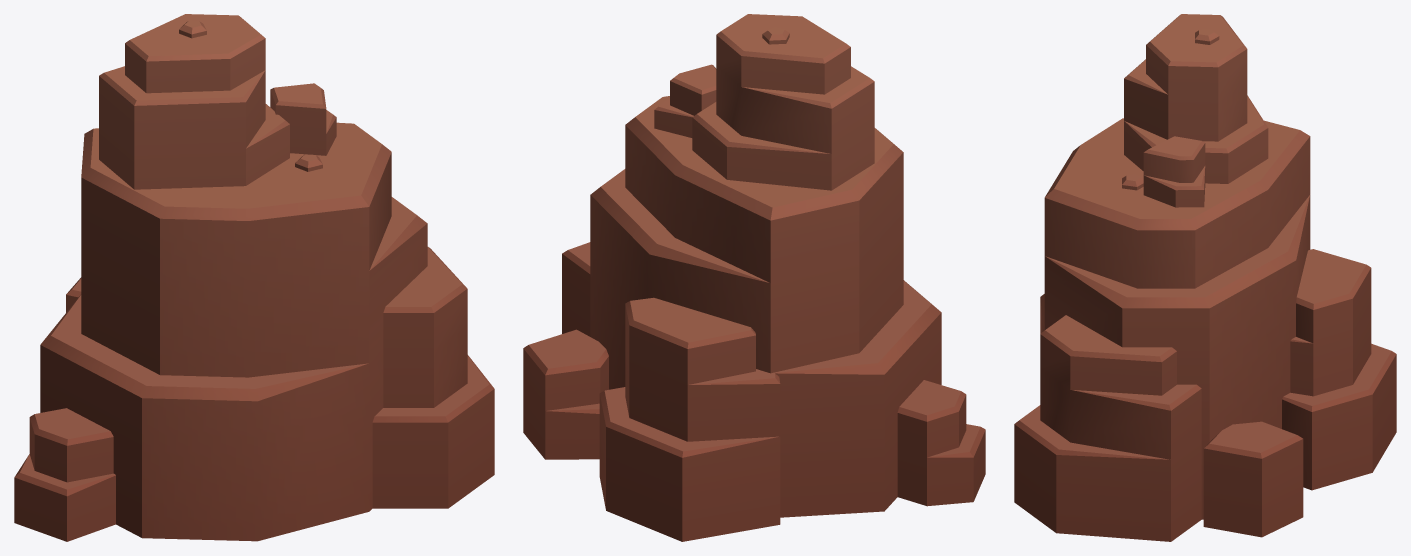
File: Rock_1_K_Color2.fbx
3 views of the same model, side by side, from view 1: azimuth 30°, elevation 25°; view 2: azimuth 150°, elevation 25°; view 3: azimuth 270°, elevation 25° (orthographic). The views are drawn at different scales.
Parts seen in each view (by area): view 1: Rock_1_K_Color2; view 2: Rock_1_K_Color2; view 3: Rock_1_K_Color2.
Boxes of the visible parts, x1,y1,x2,y2 form: Rock_1_K_Color2: (14, 14, 494, 541); Rock_1_K_Color2: (523, 14, 985, 541); Rock_1_K_Color2: (1014, 14, 1396, 541).
Size of the model in its own units: 3.69 by 3.65 by 3.13.
